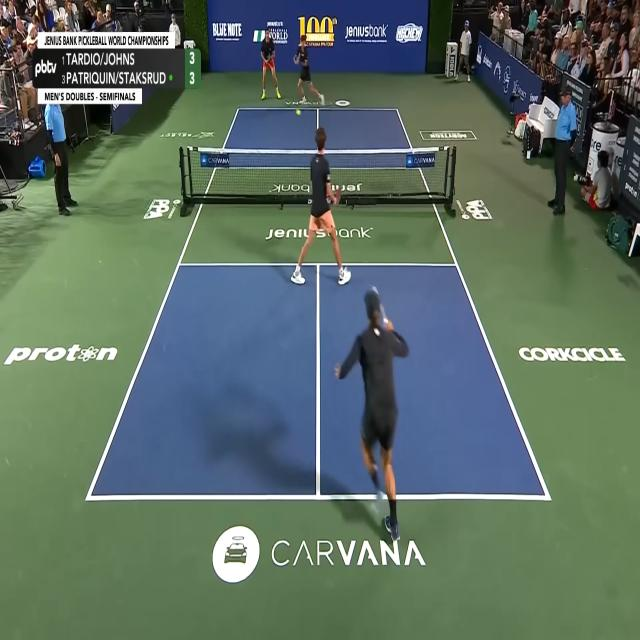ball: (296, 108, 302, 116)
